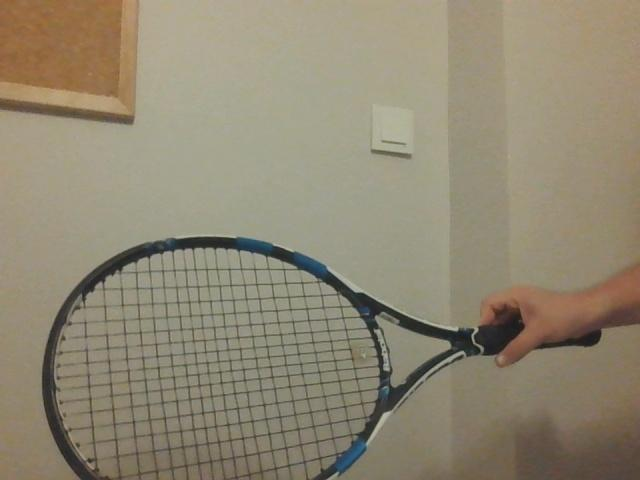Tennis-Racket: (41, 230, 598, 480)
